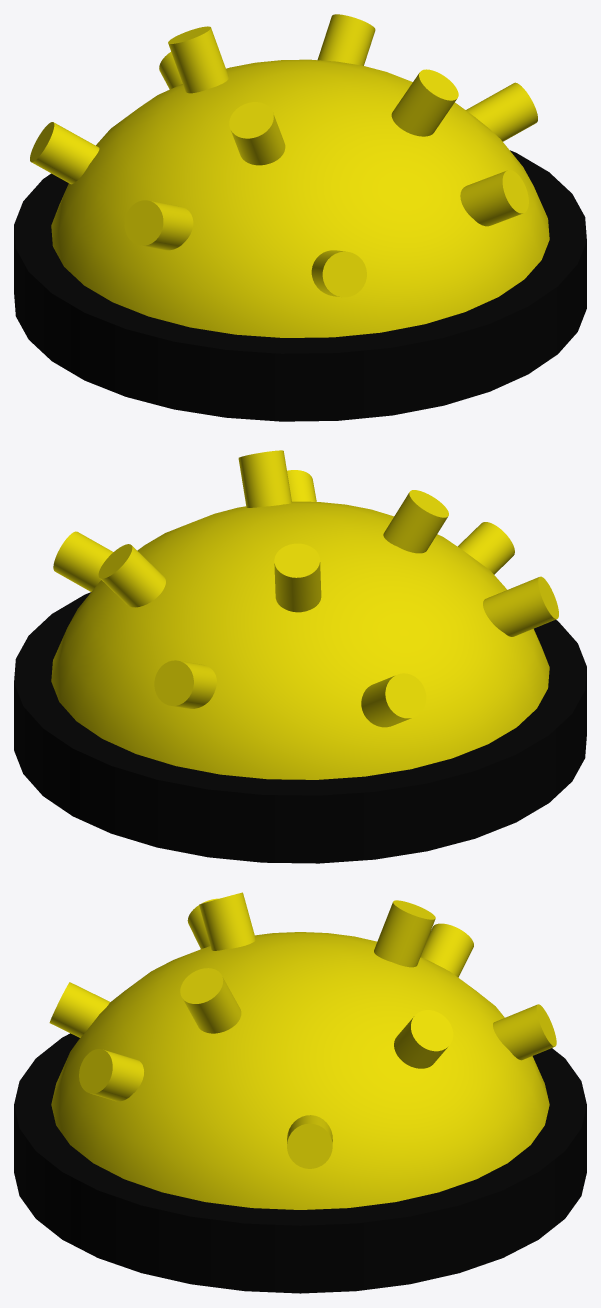
File: Landmine.fbx
3 views of the same model, one above another, from view 1: azimuth 30°, elevation 25°; view 2: azimuth 150°, elevation 25°; view 3: azimuth 270°, elevation 25° (orthographic).
Visible parts, largest first — view 1: Mine; view 2: Mine; view 3: Mine.
Boxes of the visible parts, <box> form: Mine: <box>14,14,586,421</box>; Mine: <box>14,450,586,863</box>; Mine: <box>14,892,586,1293</box>.
Size of the model in its own units: 200 by 94.15 by 200.
